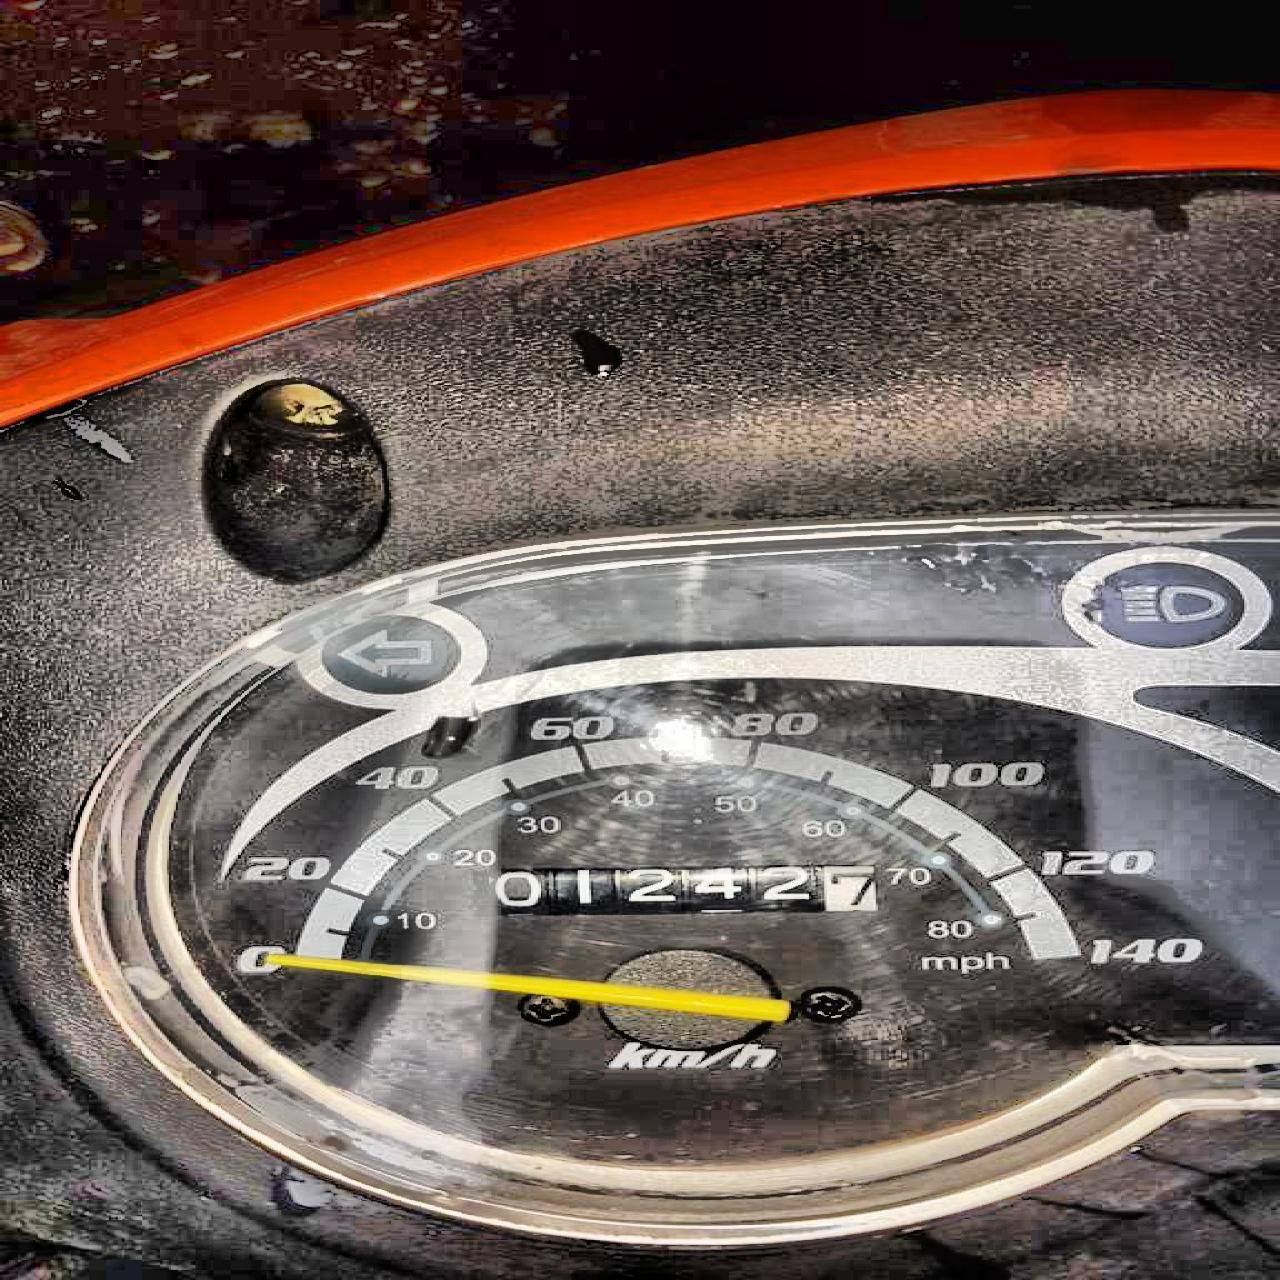0: (489, 867, 543, 907)
1: (565, 865, 602, 905)
2: (754, 864, 813, 901), (620, 865, 678, 903)
4: (689, 864, 744, 900)
7: (824, 869, 876, 906)
odometer: (456, 862, 880, 919)
